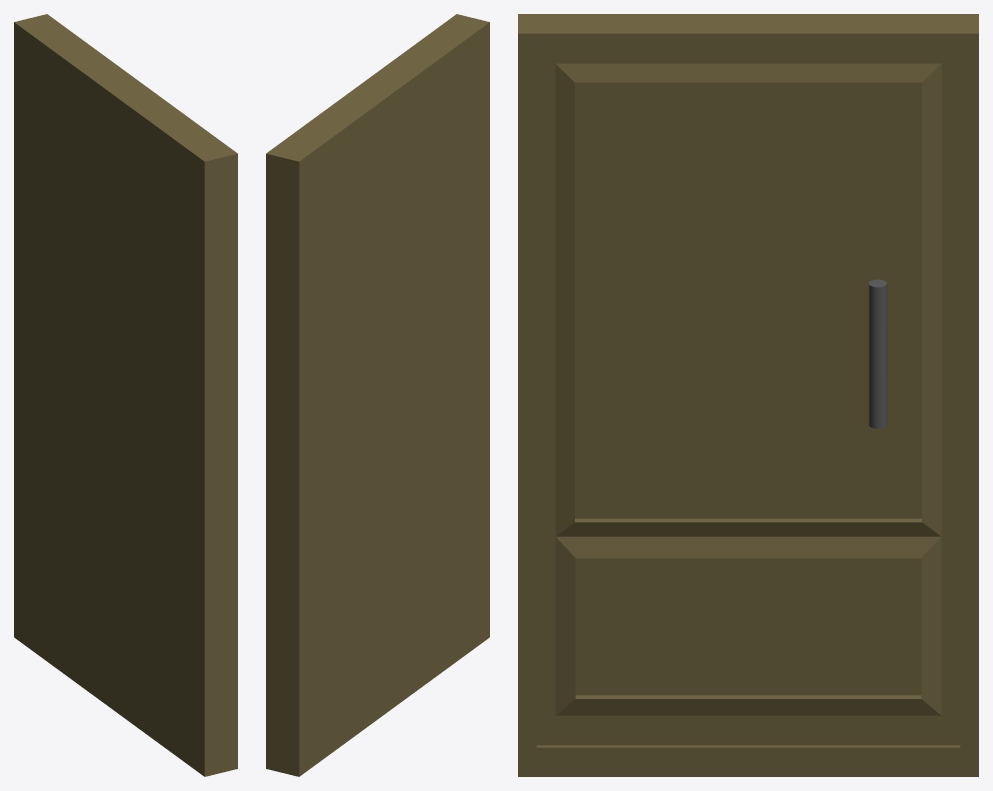
File: OfficeDoor.fbx
The picture shows the model from 3 angles, left to right: view 1: azimuth 30°, elevation 25°; view 2: azimuth 150°, elevation 25°; view 3: azimuth 270°, elevation 25°; orthographic projection. The views are drawn at different scales.
Visible parts, largest first — view 1: pCube238; view 2: pCube238; view 3: pCube238.
Boxes of the visible parts, x1,y1,x2,y2 form: pCube238: (14,14,237,776); pCube238: (266,14,489,776); pCube238: (518,14,978,776).
Size of the model in its own units: 0.6536 by 8.32 by 4.67.
